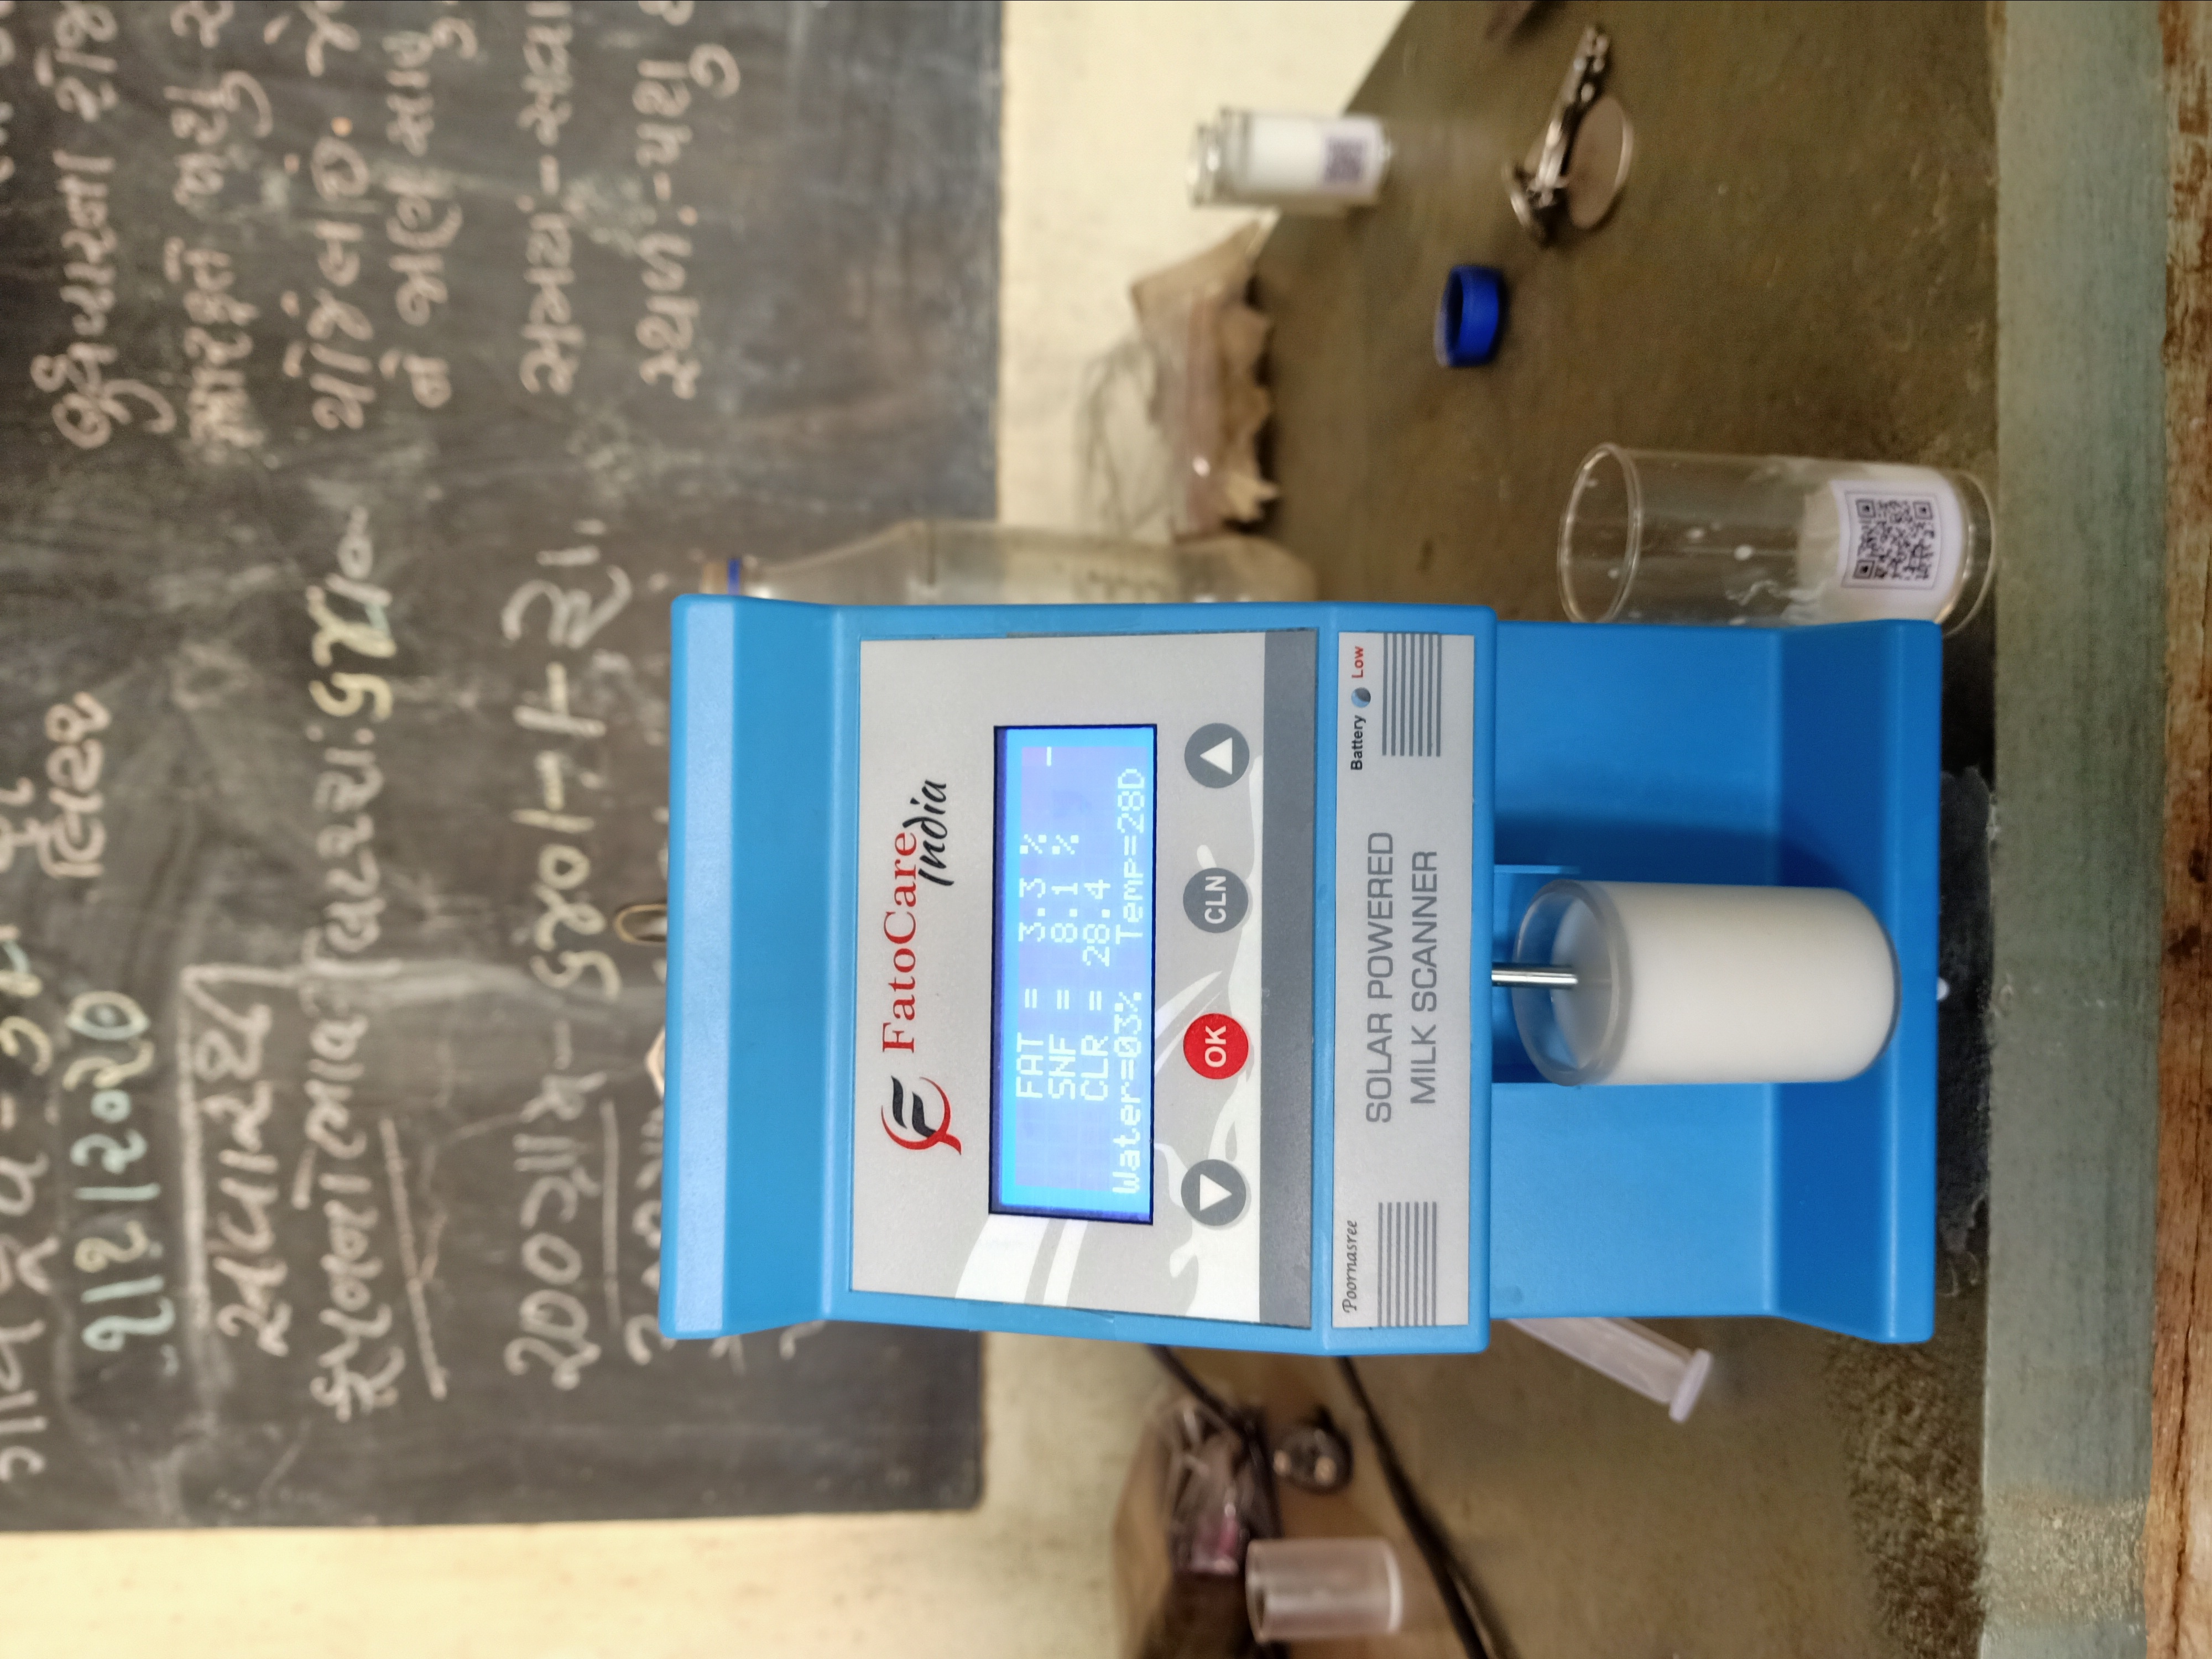lcd: (979, 706, 1170, 1241)
qr: (1844, 488, 1949, 601)
